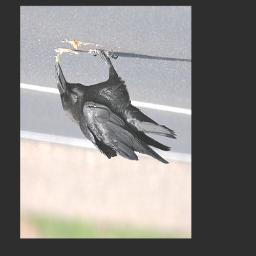Crow: (55, 50, 177, 164)
